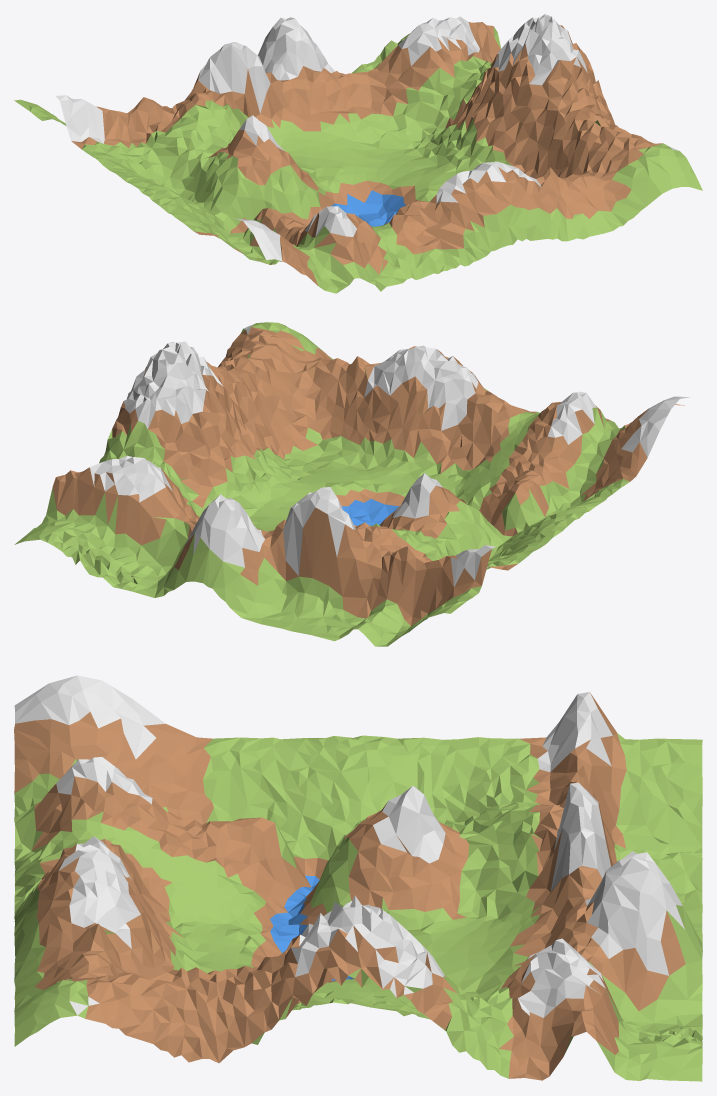
The model's file is terrain.glb.
The picture shows the model from 3 angles, top to bottom: view 1: azimuth 30°, elevation 25°; view 2: azimuth 150°, elevation 25°; view 3: azimuth 270°, elevation 25°; orthographic projection. The views are drawn at different scales.
Visible parts, largest first — view 1: Grid; view 2: Grid; view 3: Grid.
Boxes of the visible parts, x1,y1,x2,y2 form: Grid: (14, 14, 702, 293); Grid: (14, 322, 689, 646); Grid: (14, 675, 702, 1081).
Bounding box in the file's own units: 20.07 × 7.07 × 20.04.
